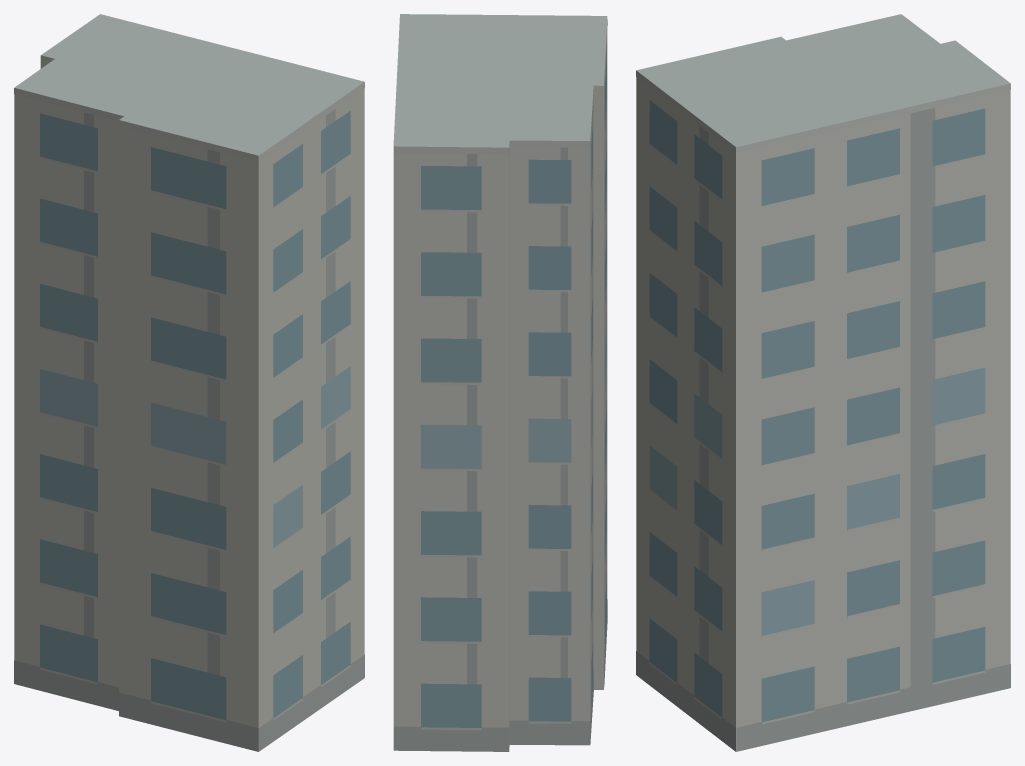
Rendered from survey-upis-32829393.glb.
3 views of the same model, side by side, from view 1: azimuth 30°, elevation 25°; view 2: azimuth 150°, elevation 25°; view 3: azimuth 270°, elevation 25° (orthographic).
Visible parts, largest first — view 1: survey-upis-32829393.tmp; view 2: survey-upis-32829393.tmp; view 3: survey-upis-32829393.tmp.
Part boxes in pixels (box(x1,y1,x2,y2)): survey-upis-32829393.tmp: box(14, 14, 364, 751); survey-upis-32829393.tmp: box(393, 14, 607, 751); survey-upis-32829393.tmp: box(636, 14, 1010, 751).
Bounding box in the file's own units: 10.36 × 21.9 × 12.31.
